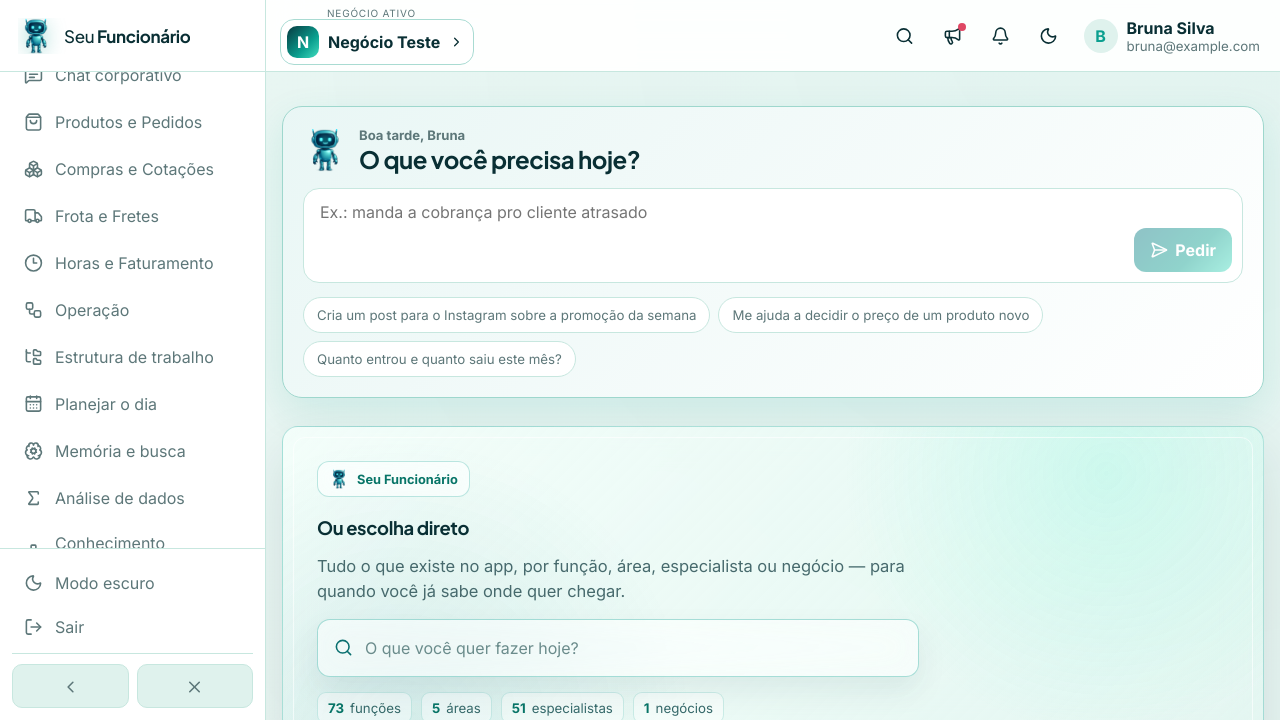
projetos, equipes e subtarefas › cria um projeto antes de qualquer tarefa em Operação
This screenshot has width=1280, height=720.
(page scrolled)
Click the button "Operação".
click(132, 310)  # box [12, 288, 253, 332]
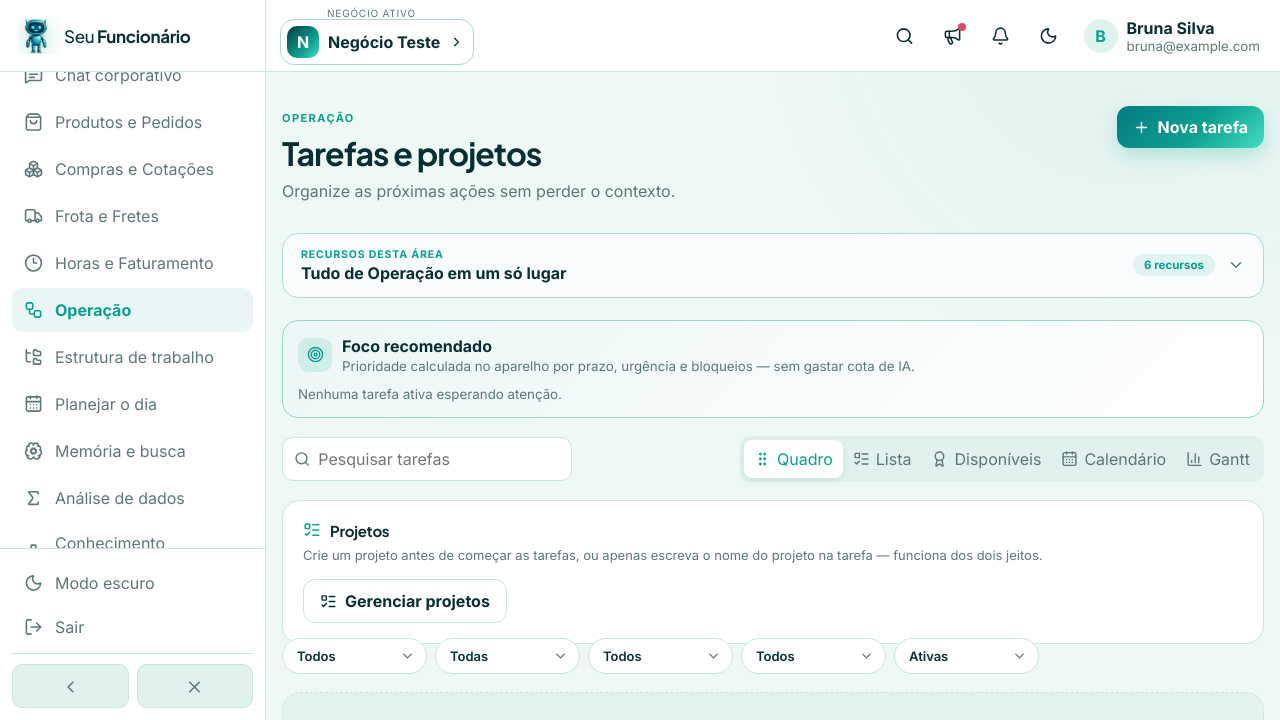
Click the button "Gerenciar projetos".
click(405, 601)  # box [303, 579, 507, 623]
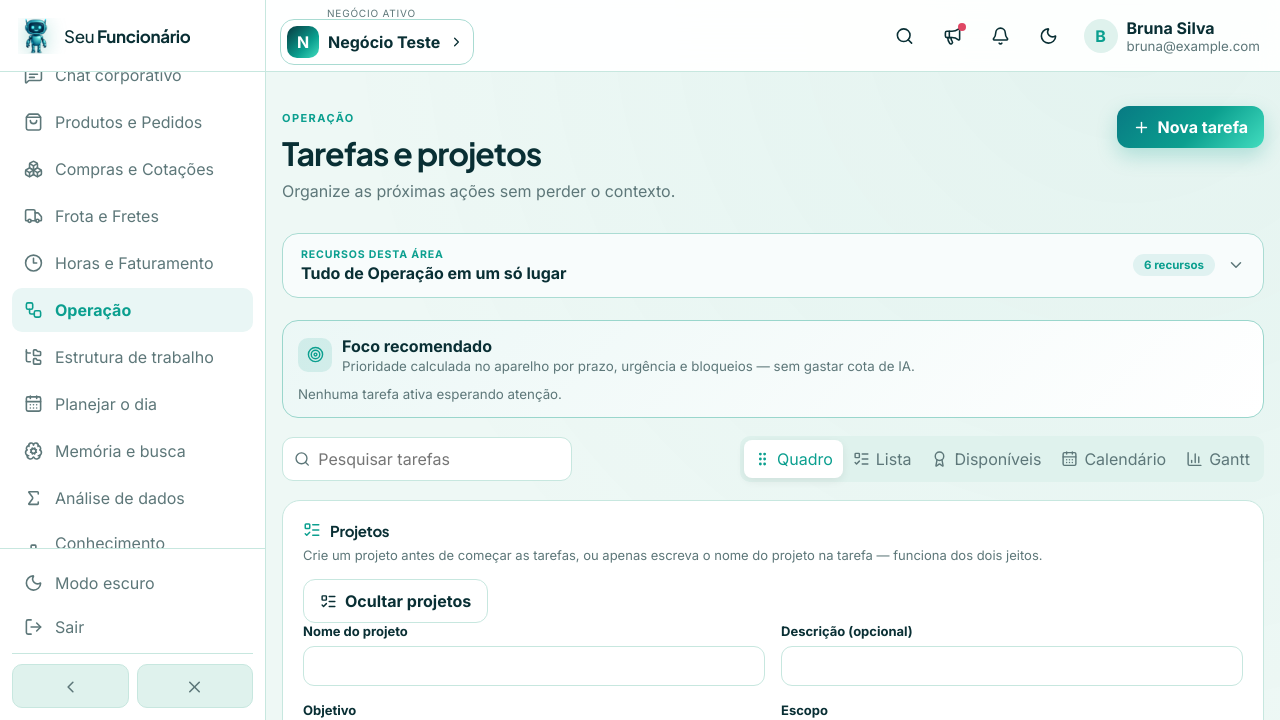
Type "Lançamento de julho" into the field labelled "Nome do projeto".
click(534, 666); type("Lançamento de julho")  # box [303, 646, 765, 686]
(page scrolled)
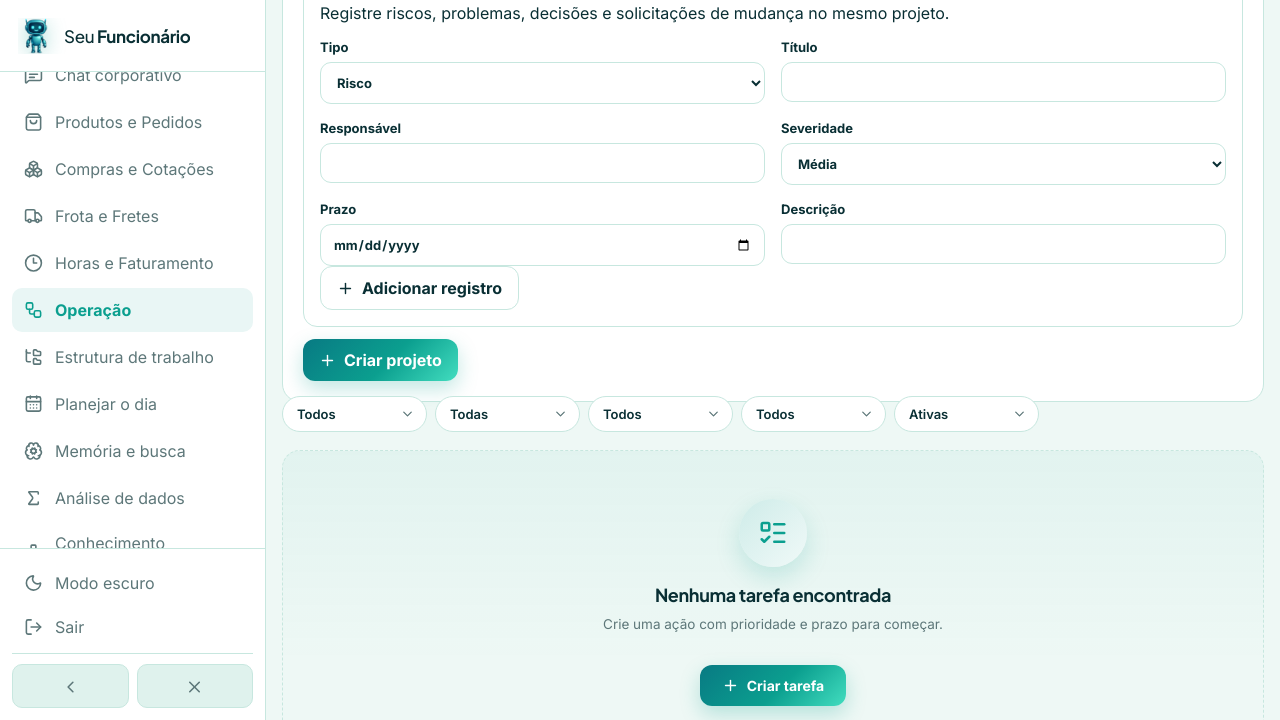
Click the button "Criar projeto".
click(380, 360)  # box [303, 339, 458, 381]
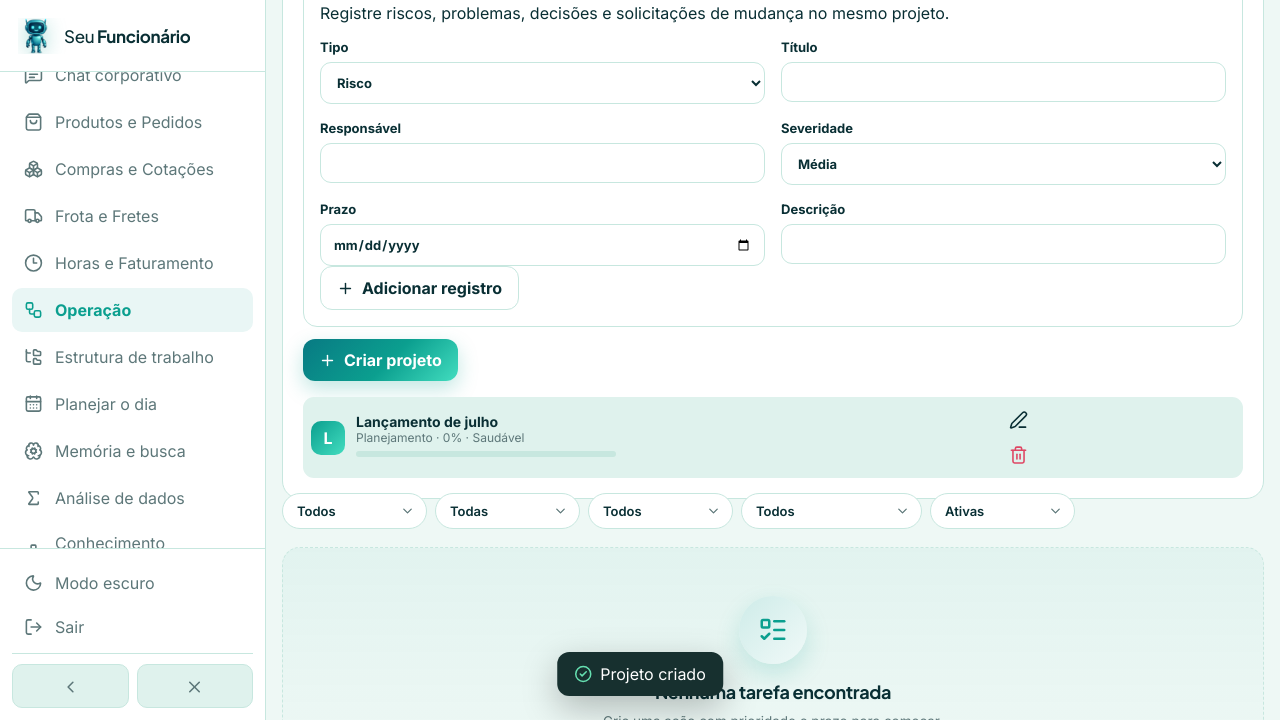
Now the text "Lançamento de julho" is shown, box [356, 413, 498, 430]
